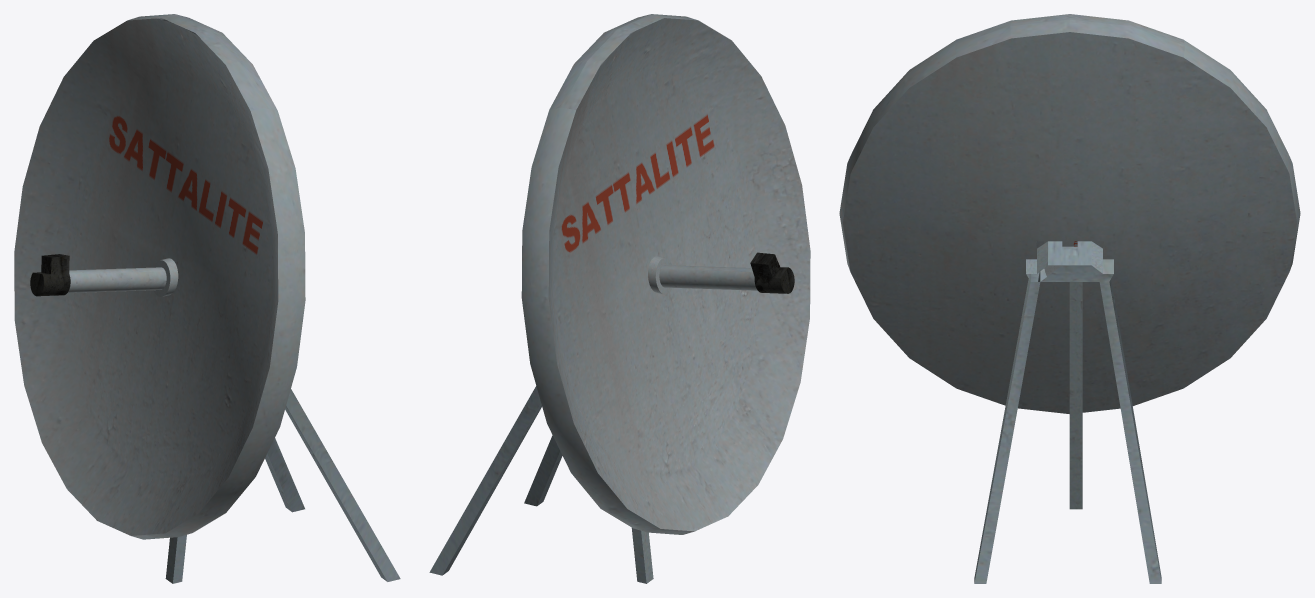
The model's file is Sat_01.fbx.
The picture shows the model from 3 angles, left to right: view 1: azimuth 30°, elevation 25°; view 2: azimuth 150°, elevation 25°; view 3: azimuth 270°, elevation 25°; orthographic projection. The views are drawn at different scales.
Visible parts, largest first — view 1: Mesh (2); view 2: Mesh (2); view 3: Mesh (2).
Boxes of the visible parts, left/top/right/bottom form: Mesh (2): left=14, top=14, right=400, bottom=583; Mesh (2): left=429, top=14, right=810, bottom=583; Mesh (2): left=839, top=14, right=1300, bottom=583.
Size of the model in its own units: 257 by 427 by 356.
